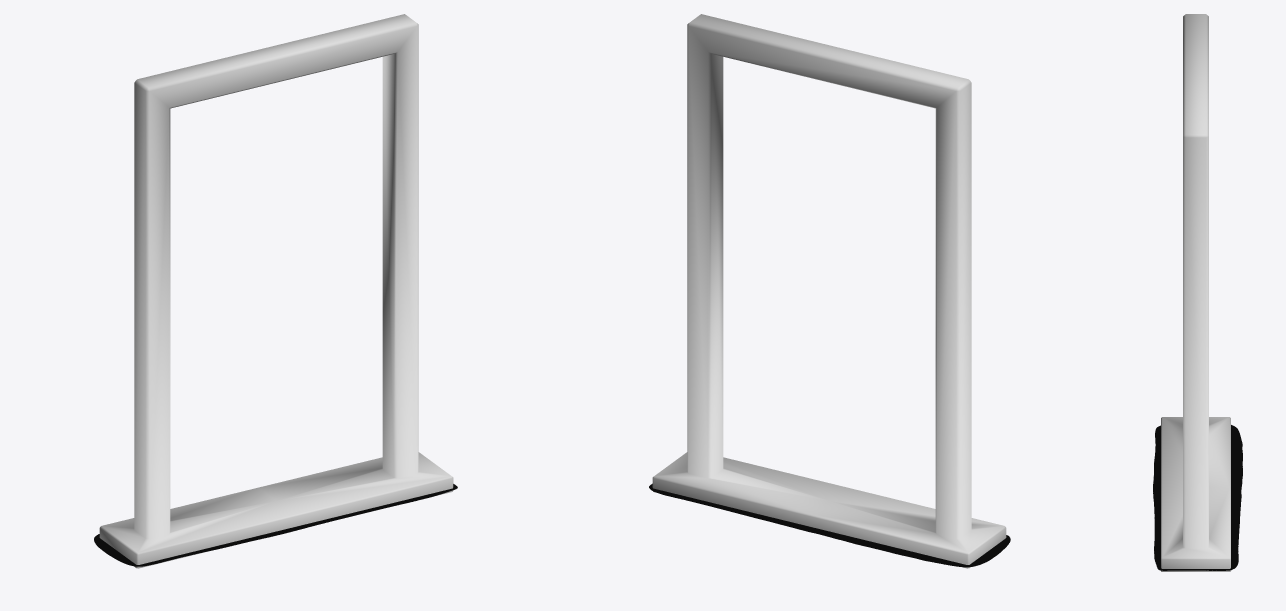
The model's file is Portal 2.fbx.
The picture shows the model from 3 angles, left to right: view 1: azimuth 30°, elevation 25°; view 2: azimuth 150°, elevation 25°; view 3: azimuth 270°, elevation 25°; orthographic projection. The views are drawn at different scales.
Parts seen in each view (by area): view 1: Cube.001, Plane.001; view 2: Cube.001, Plane.001; view 3: Cube.001, Plane.001.
Part boxes in pixels (<box>): Cube.001: <box>99,14,453,568</box>; Plane.001: <box>94,484,457,566</box>; Cube.001: <box>652,14,1006,568</box>; Plane.001: <box>649,483,1010,567</box>; Cube.001: <box>1161,14,1230,571</box>; Plane.001: <box>1153,425,1242,570</box>.
Size of the model in its own units: 727 by 731 by 235.
